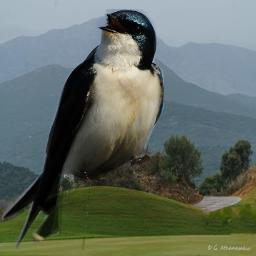Swallow: (2, 9, 164, 250)
